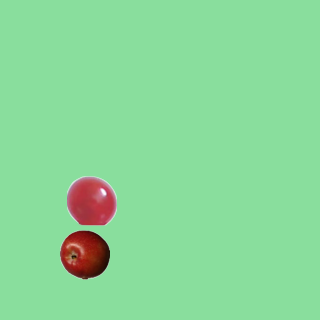Apple Braeburn: (59, 229, 109, 279)
Redcurrant: (66, 175, 116, 225)
